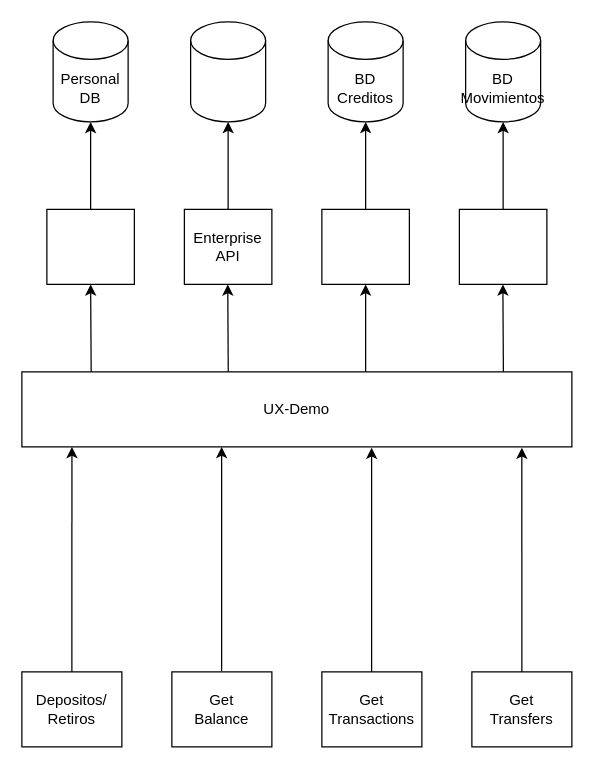
Image size: 594x769. Some labels were removed from this diagram. The centre of each missing label's shape, as x and y in pixels:
Enterprise DB: [227,71]
Personal API: [90,246]
Products API: [365,246]
Transactions API: [502,246]
